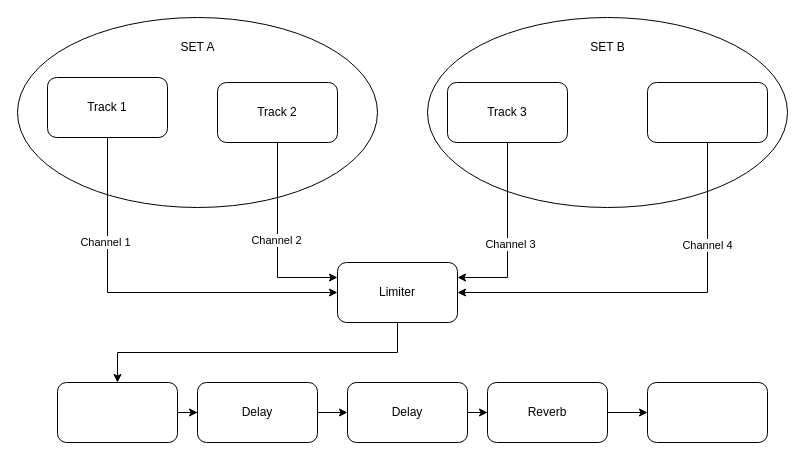
Image size: 805x460. Some labels were removed from this diagram. The shapes that lost their labels are listed below. From the top down, each one's box as (x1, y1, x2, y2) in pixels, then its label:
(646, 82, 768, 142): Track 4
(56, 382, 178, 442): Chorus
(646, 382, 768, 442): Desination
